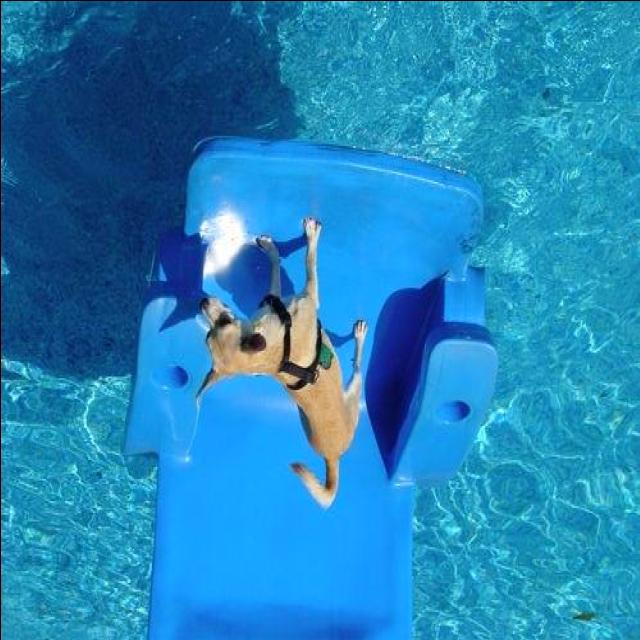chihuahua: (190, 216, 367, 514)
